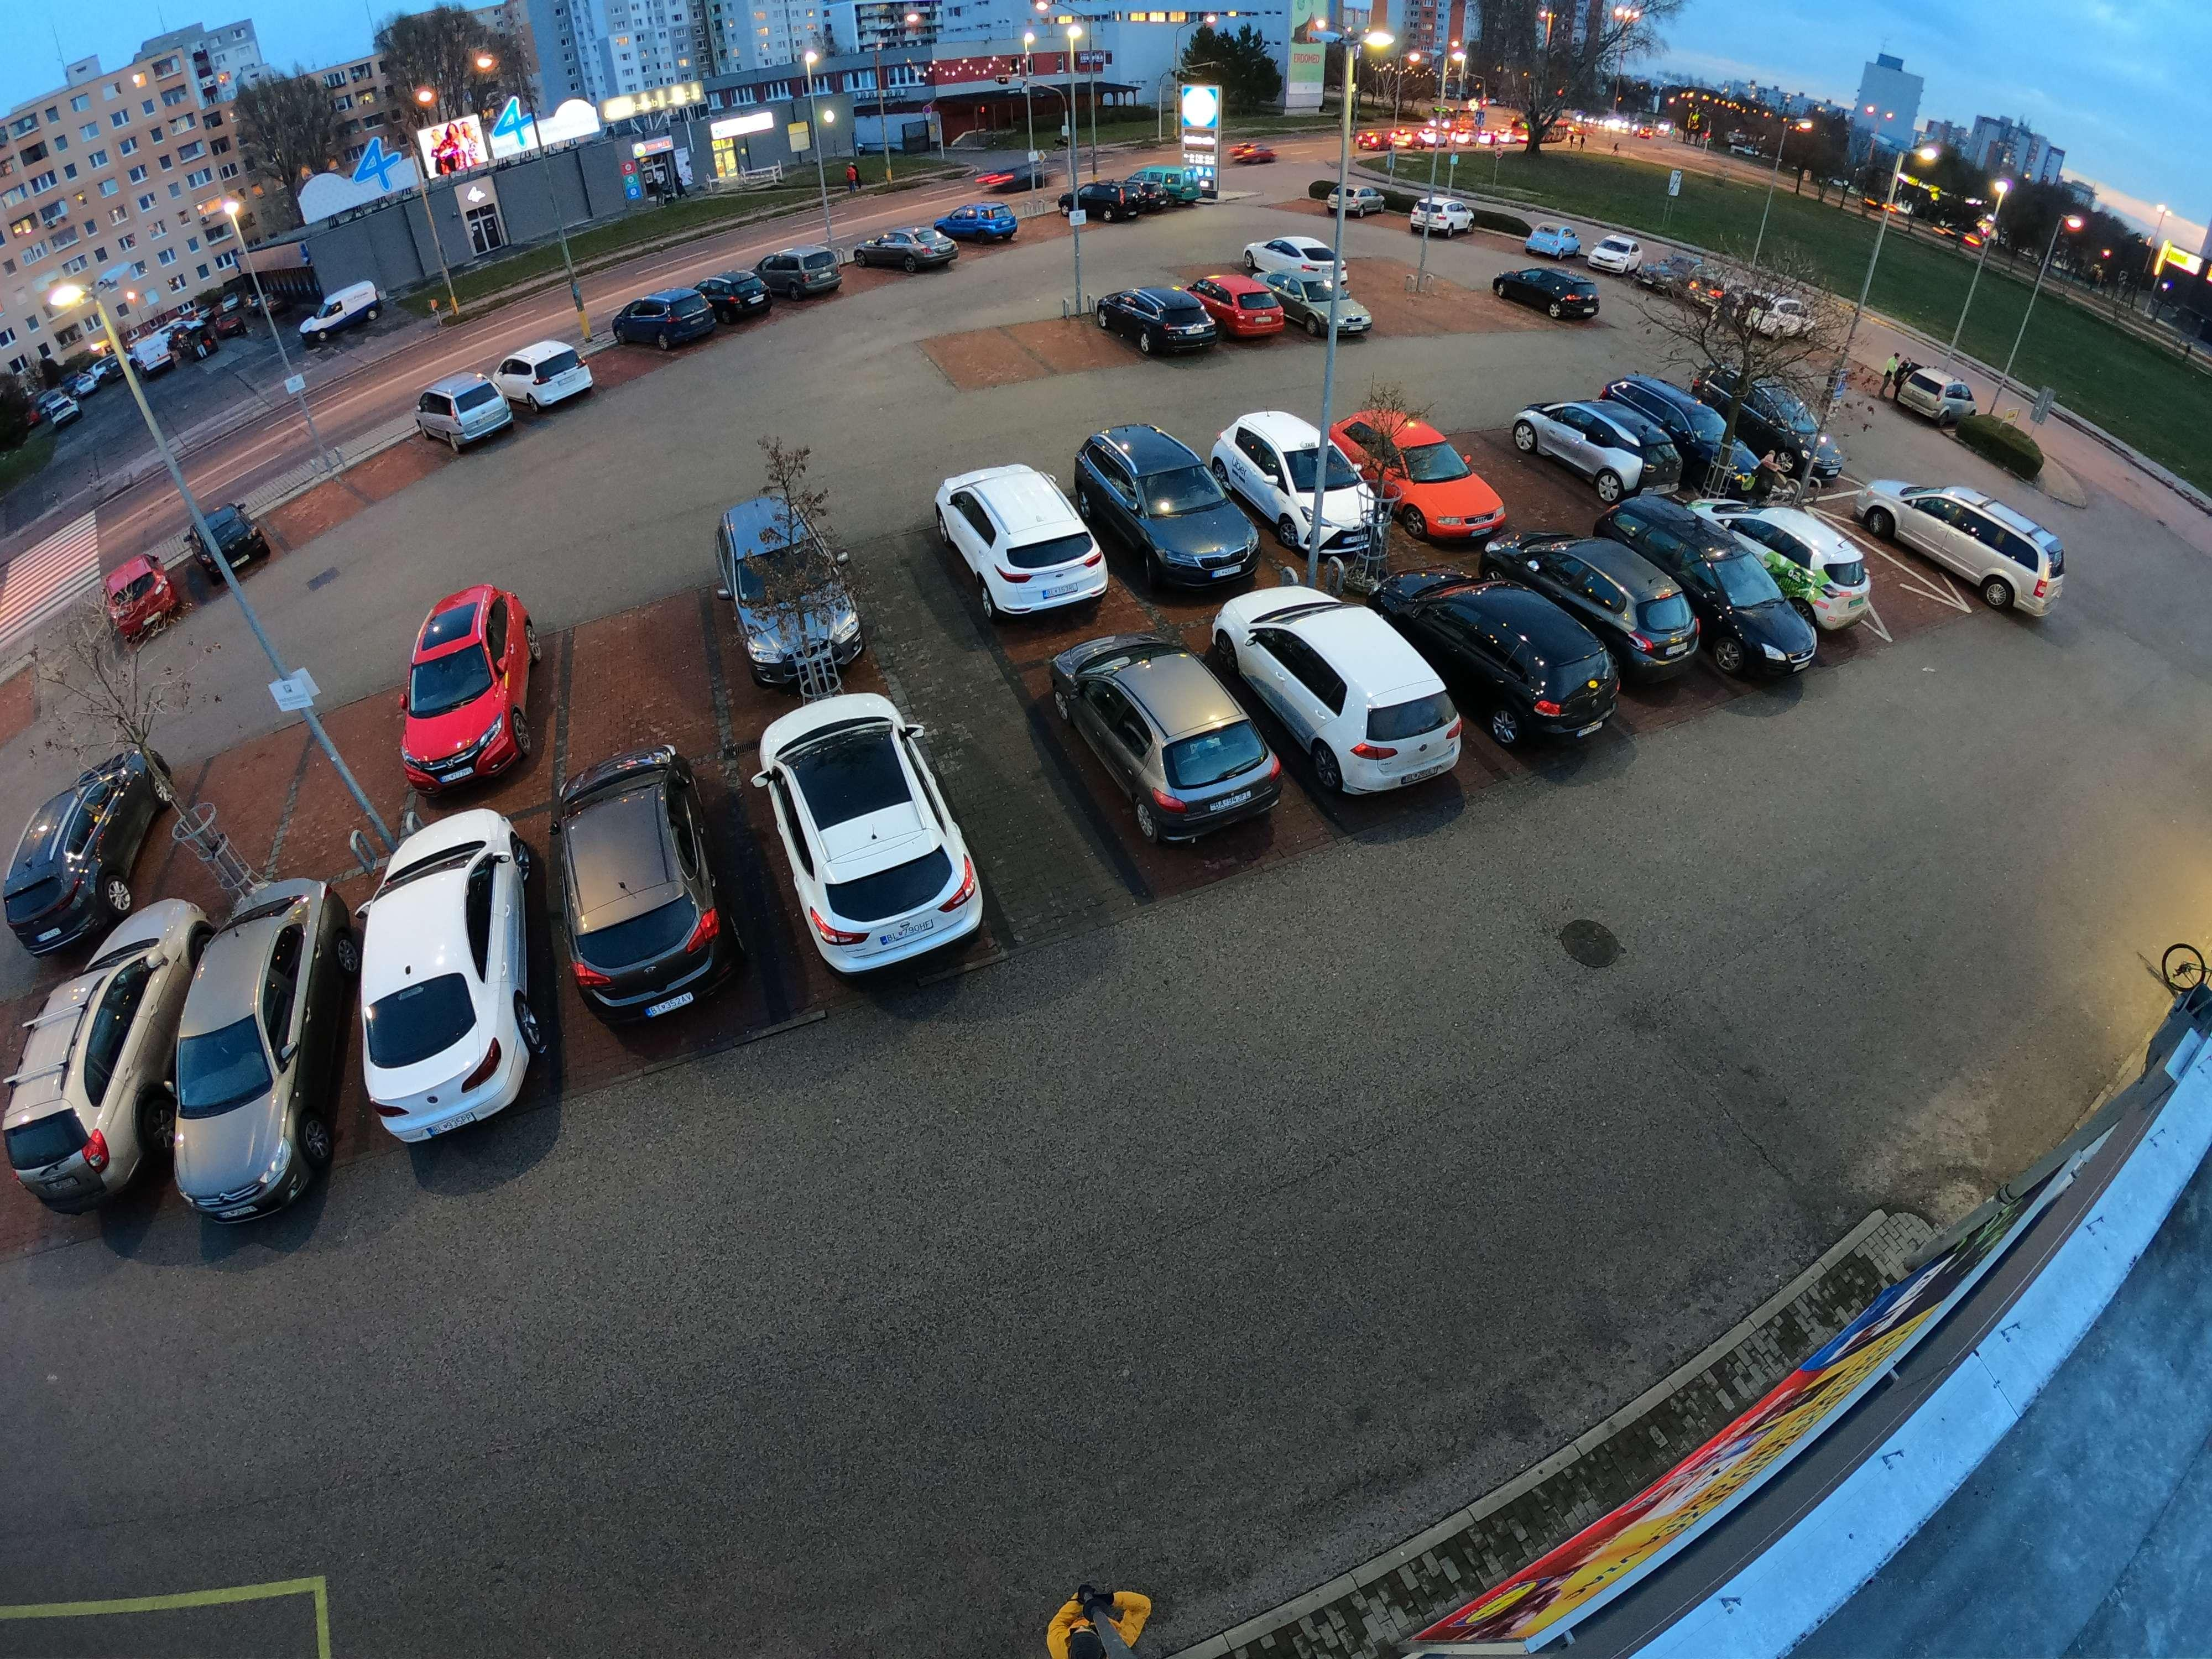empty: (148, 868, 355, 1223), (759, 683, 995, 981), (334, 796, 536, 1143), (543, 742, 752, 1025), (1233, 594, 1486, 800), (1055, 641, 1298, 847), (1620, 507, 1827, 673), (394, 589, 561, 789), (1416, 589, 1618, 744), (1083, 430, 1273, 594), (935, 464, 1125, 620), (1217, 415, 1399, 565), (1869, 484, 2080, 612), (1522, 537, 1714, 676), (1336, 415, 1514, 545), (1723, 512, 1905, 629), (1693, 373, 1858, 476), (1620, 378, 1771, 483), (1515, 397, 1677, 493), (1092, 289, 1221, 364), (416, 378, 526, 457), (502, 340, 610, 411), (618, 291, 732, 359), (1885, 361, 1998, 429), (1193, 279, 1298, 349), (1501, 268, 1611, 329), (759, 244, 853, 305), (846, 227, 956, 277), (702, 267, 780, 319), (937, 207, 1024, 249)
occupied: (580, 641, 714, 735), (188, 760, 293, 880), (293, 716, 381, 852), (1475, 446, 1555, 512), (277, 472, 343, 551), (951, 329, 1017, 404), (1033, 328, 1109, 369), (369, 446, 446, 488), (1364, 279, 1418, 331), (1426, 291, 1482, 340)
